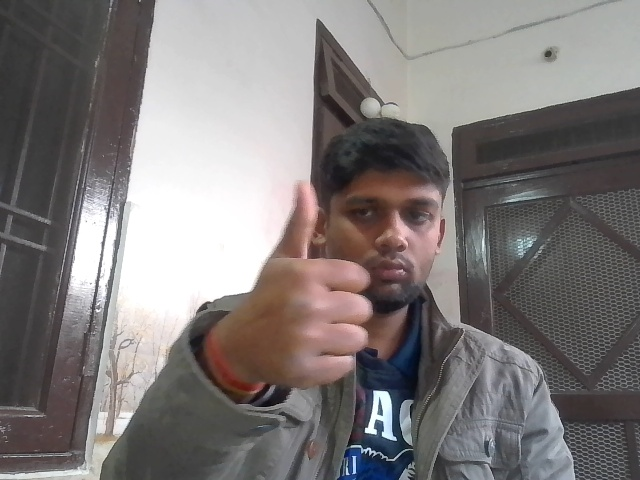BestOfLuck: (245, 176, 376, 391)
